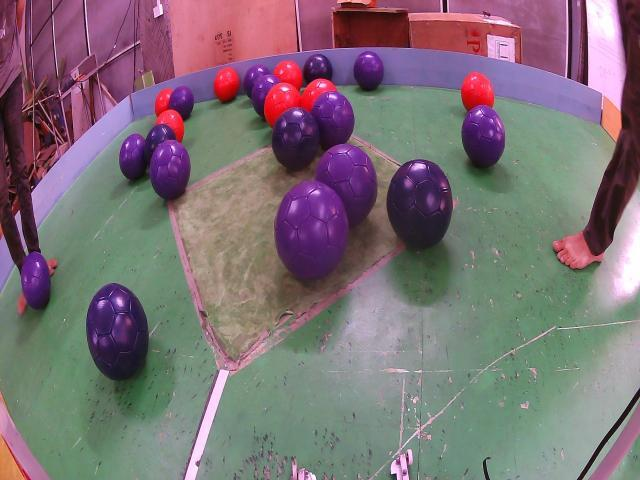jambhalya: (275, 180, 349, 280), (315, 143, 378, 227), (461, 105, 505, 167), (311, 90, 355, 150), (150, 140, 190, 200), (21, 252, 50, 308), (251, 73, 280, 118), (119, 133, 146, 180), (354, 52, 384, 90), (242, 65, 270, 98), (169, 85, 194, 120)
kaalyya: (86, 283, 149, 380), (386, 160, 452, 248), (271, 107, 320, 170), (144, 123, 176, 165), (304, 53, 332, 83)
